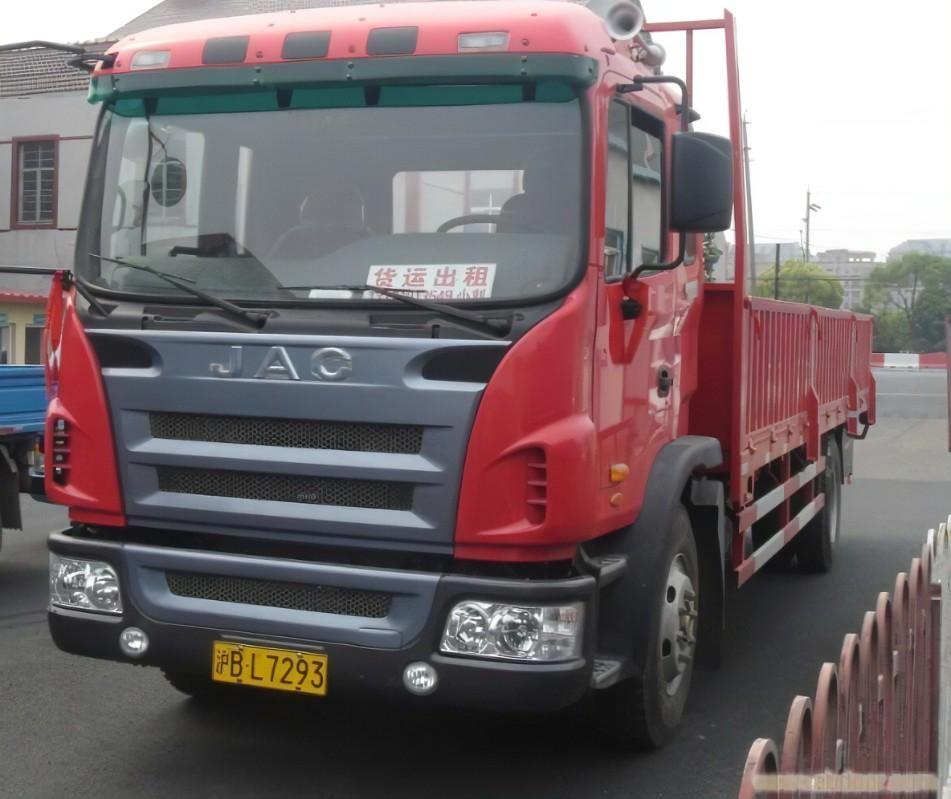truck: (33, 5, 882, 751)
